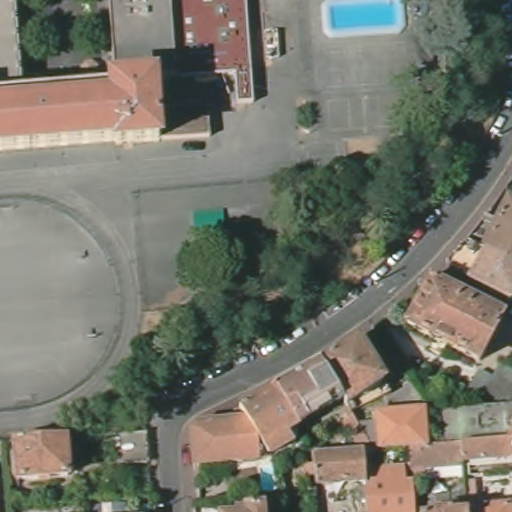pool: (329, 1, 402, 32), (256, 462, 277, 491)
